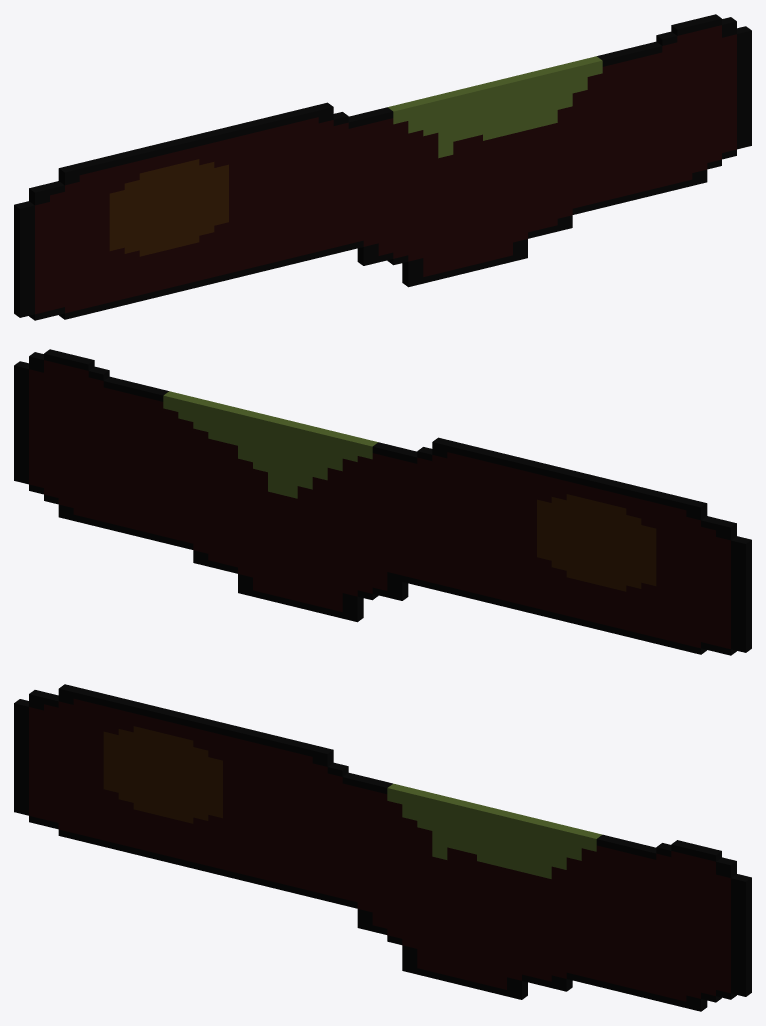
Rendered from background-log.fbx.
3 renders of one model, top to bottom at view 1: azimuth 30°, elevation 25°; view 2: azimuth 150°, elevation 25°; view 3: azimuth 330°, elevation 25°, orthographic.
Visible parts, largest first — view 1: pCube1; view 2: pCube1; view 3: pCube1.
Part boxes in pixels (left/top/right/bottom): pCube1: left=14, top=14, right=751, bottom=320; pCube1: left=14, top=349, right=751, bottom=655; pCube1: left=14, top=684, right=751, bottom=1011.
Size of the model in its own units: 1.27 by 0.3288 by 0.0181.
1 material, 1 textured.
